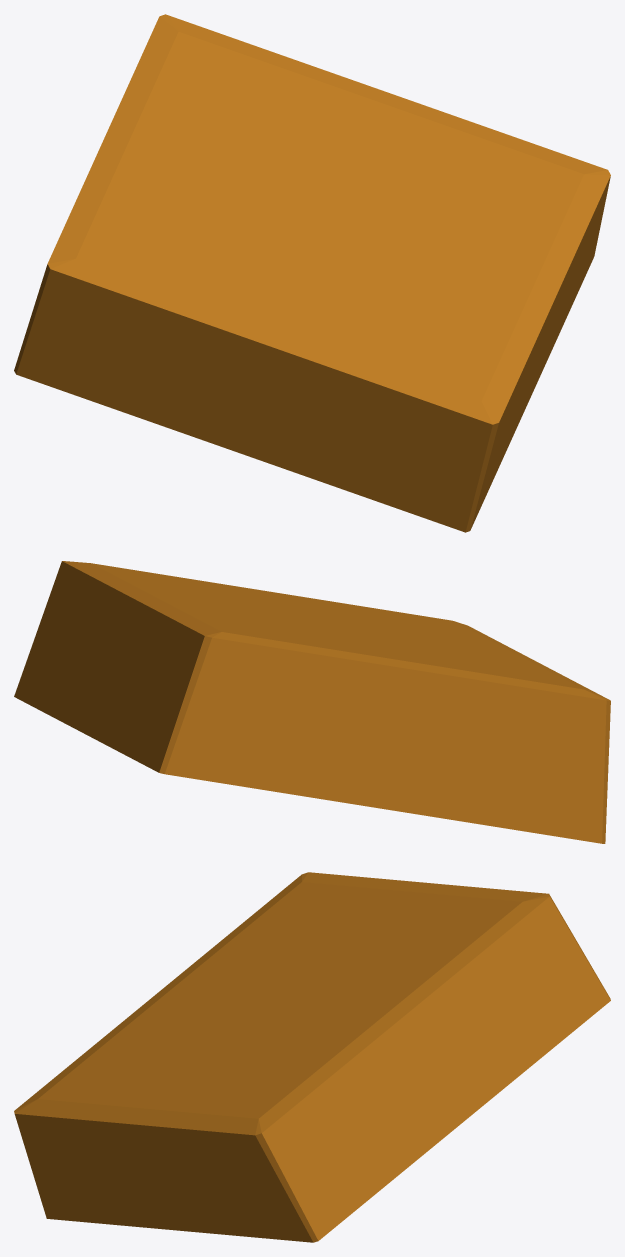
Rendered from copper-plate.glb.
The picture shows the model from 3 angles, top to bottom: view 1: azimuth 30°, elevation 25°; view 2: azimuth 150°, elevation 25°; view 3: azimuth 270°, elevation 25°; orthographic projection. The views are drawn at different scales.
Parts seen in each view (by area): view 1: Cube.021; view 2: Cube.021; view 3: Cube.021.
Boxes of the visible parts, box(x1,y1,x2,y2) form: Cube.021: box(14, 14, 610, 532); Cube.021: box(14, 561, 610, 843); Cube.021: box(14, 872, 610, 1242).
Size of the model in its own units: 5 by 2.77 by 4.9.
